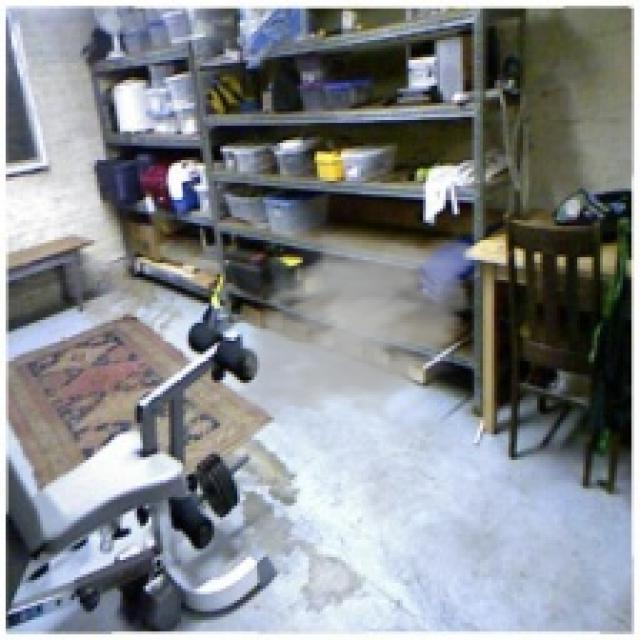smoke: (225, 223, 486, 437)
